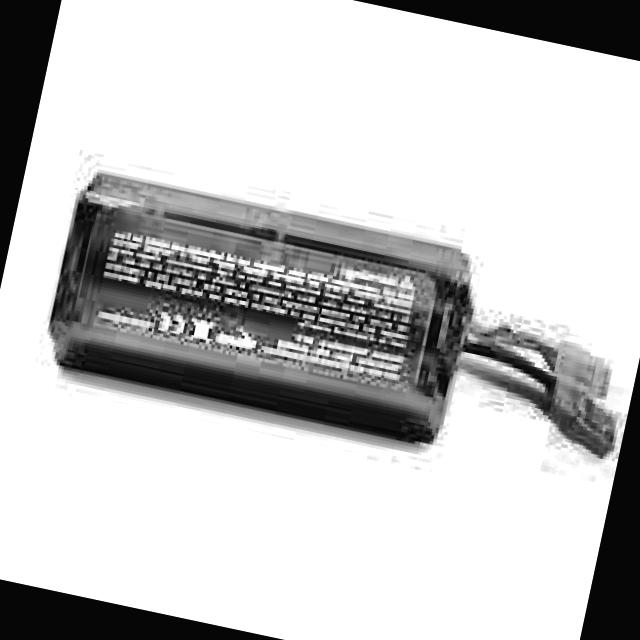Battery: (39, 166, 480, 452)
